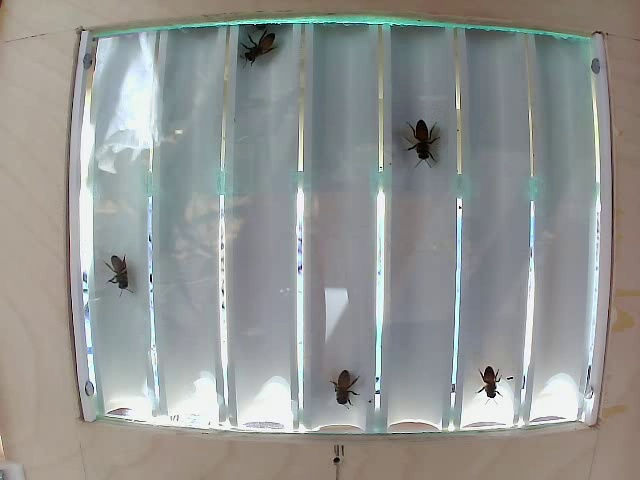bee: (405, 108, 441, 183), (244, 27, 283, 78), (466, 357, 507, 396), (325, 367, 360, 403), (100, 252, 133, 287)
